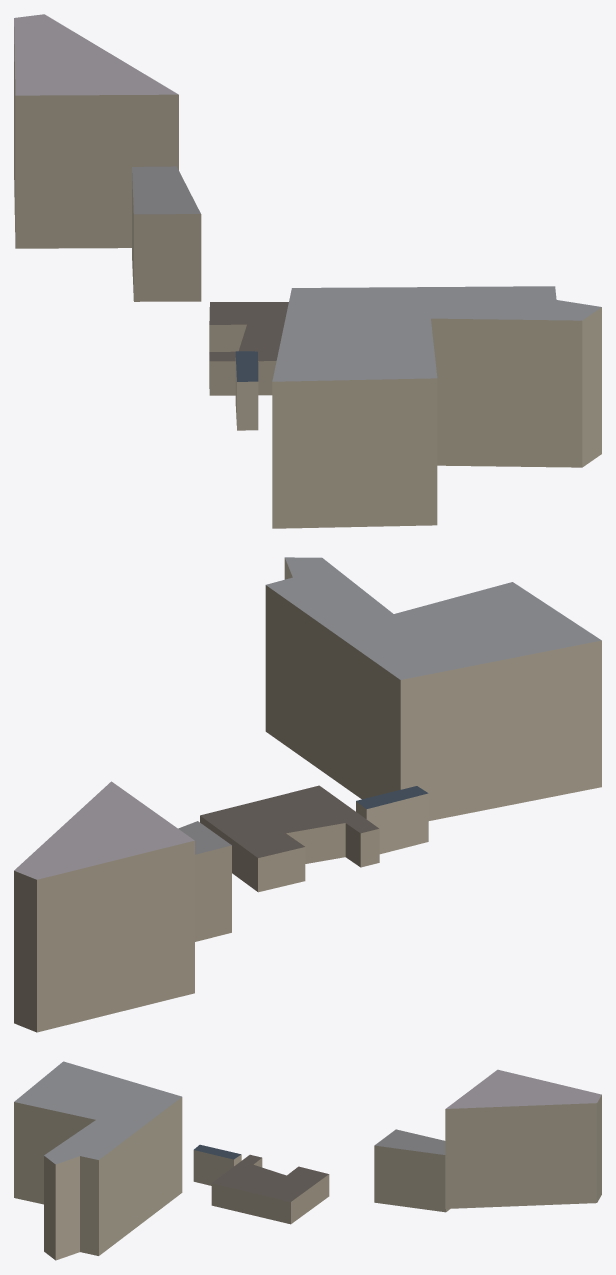
3 renders of one model, top to bottom at view 1: azimuth 30°, elevation 25°; view 2: azimuth 150°, elevation 25°; view 3: azimuth 270°, elevation 25°, orthographic. The views are drawn at different scales.
Parts seen in each view (by area): view 1: tuile; view 2: tuile; view 3: tuile.
Part boxes in pixels (left/top/right/bottom): tuile: left=14, top=14, right=601, bottom=528; tuile: left=14, top=557, right=601, bottom=1032; tuile: left=14, top=1061, right=601, bottom=1260.
Bounding box in the file's own units: 35.1 × 17.74 × 84.5.
